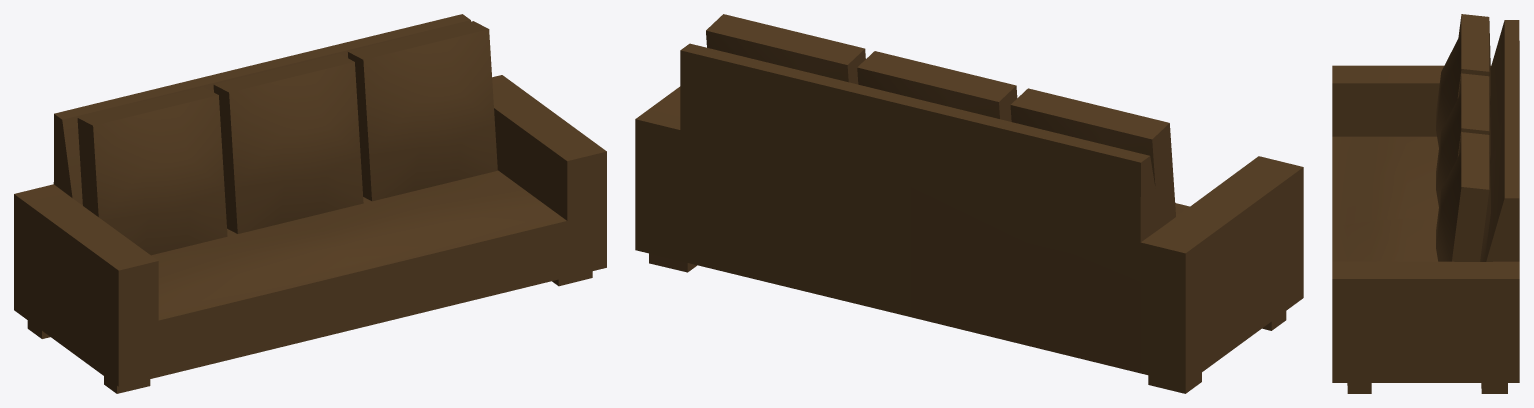
File: SM_Couch.fbx
3 views of the same model, side by side, from view 1: azimuth 30°, elevation 25°; view 2: azimuth 150°, elevation 25°; view 3: azimuth 270°, elevation 25° (orthographic). The views are drawn at different scales.
Visible parts, largest first — view 1: SM_Couch; view 2: SM_Couch; view 3: SM_Couch.
Part boxes in pixels (bbox=[...]): SM_Couch: bbox=[14, 14, 606, 393]; SM_Couch: bbox=[635, 14, 1303, 393]; SM_Couch: bbox=[1332, 14, 1519, 393].
Size of the model in its own units: 52.7 by 21.86 by 19.58.
